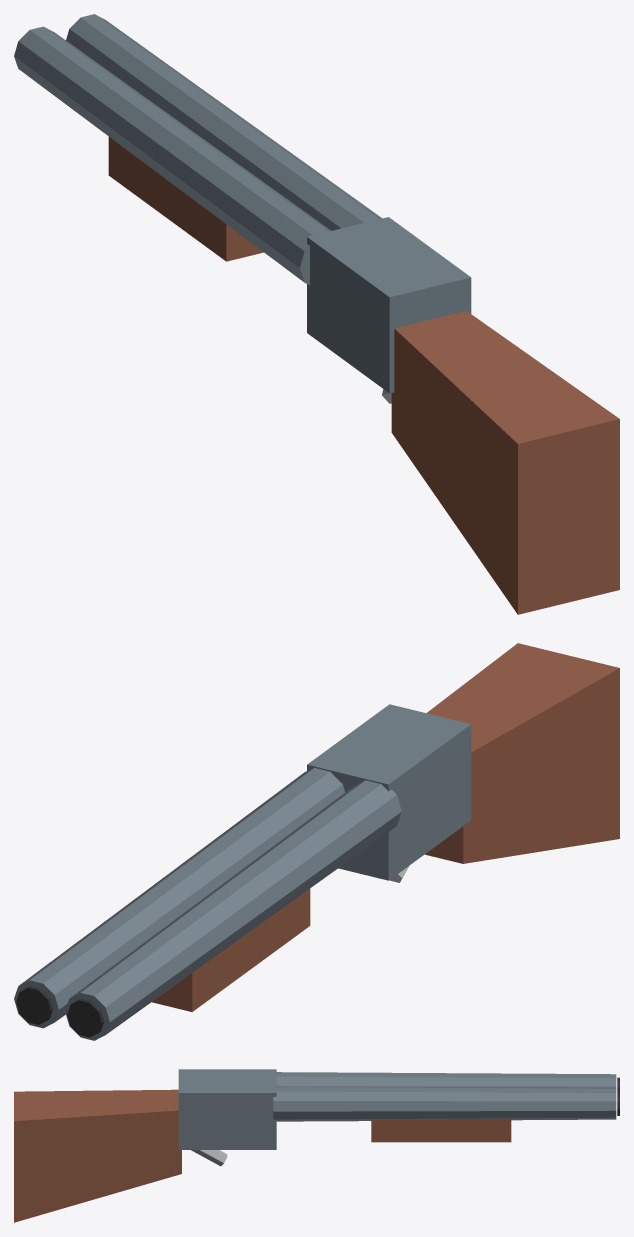
File: Shotgun.fbx
3 renders of one model, top to bottom at view 1: azimuth 30°, elevation 25°; view 2: azimuth 150°, elevation 25°; view 3: azimuth 270°, elevation 25°, orthographic. The views are drawn at different scales.
Parts seen in each view (by area): view 1: Stock, Barrel1, Receiver, Barrel-1, Foregrip; view 2: Stock, Barrel1, Receiver, Barrel-1, Foregrip, Mouth1, Mouth-1; view 3: Stock, Barrel-1, Receiver, Barrel1, Foregrip, TriggerGuard.
Part boxes in pixels (x1,y1,x2,y2): Stock: (391,311,619,614); Barrel1: (14,26,330,285); Receiver: (307,217,471,393); Barrel-1: (66,14,381,230); Foregrip: (108,136,263,261); Stock: (425,643,619,863); Barrel1: (65,780,401,1040); Receiver: (307,704,471,880); Barrel-1: (14,768,345,1028); Foregrip: (152,888,310,1011); Mouth1: (67,998,104,1037); Mouth-1: (16,986,52,1024); Stock: (14,1089,181,1222); Barrel-1: (273,1087,616,1121); Receiver: (178,1069,276,1149); Barrel1: (276,1072,616,1088); Foregrip: (371,1118,511,1142); TriggerGuard: (191,1150,227,1166).
Bounding box in the file's own units: 0.1 × 0.2 × 0.865.
